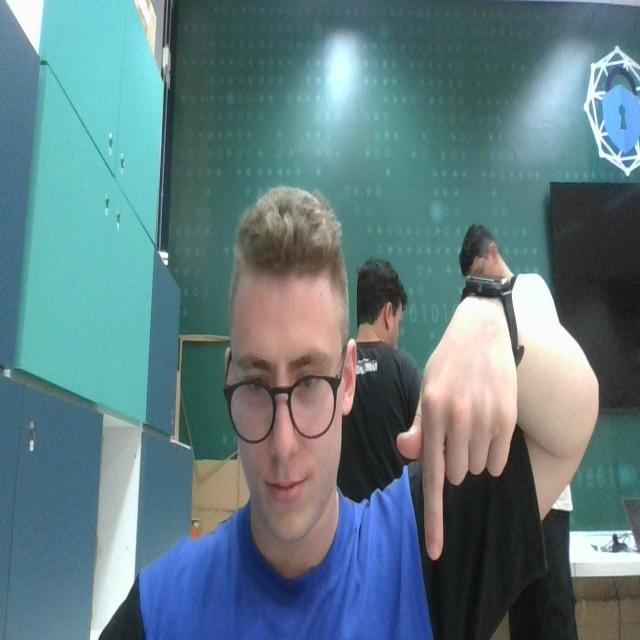Q: (399, 304, 522, 569)
